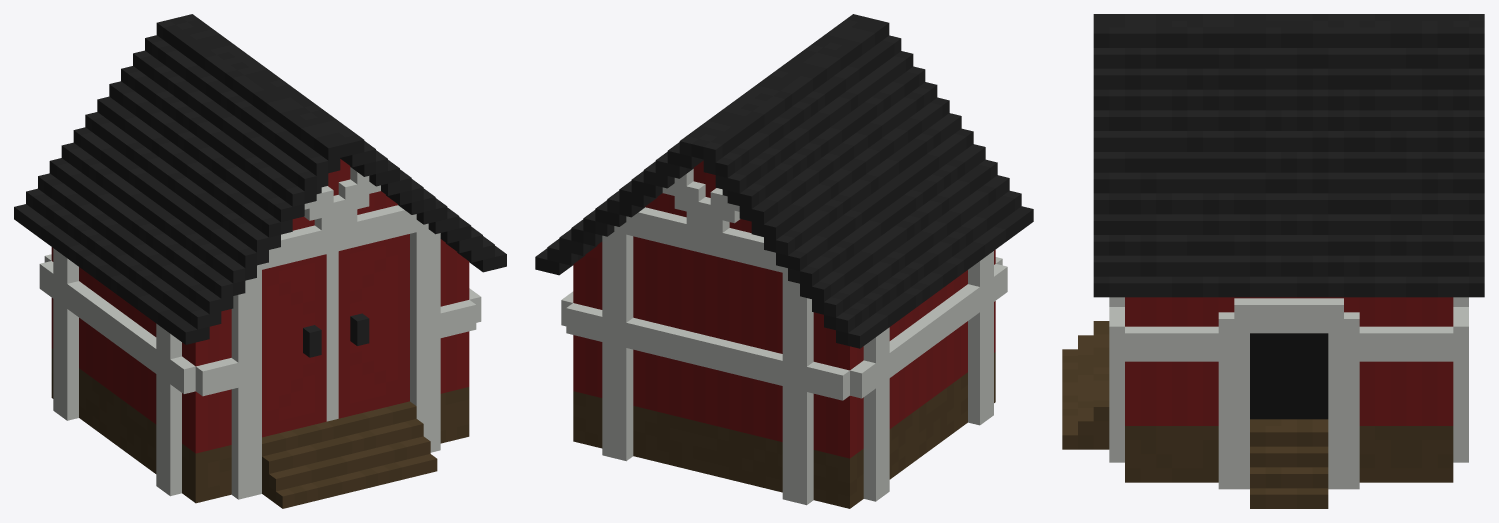
File: farm-49-coop.obj
3 views of the same model, side by side, from view 1: azimuth 30°, elevation 25°; view 2: azimuth 150°, elevation 25°; view 3: azimuth 270°, elevation 25° (orthographic). The views are drawn at different scales.
Visible parts, largest first — view 1: coop; view 2: coop; view 3: coop.
Part boxes in pixels (<box>): coop: <box>14,14,506,508</box>; coop: <box>535,14,1033,508</box>; coop: <box>1062,14,1484,508</box>.
Size of the model in its own units: 2.9 by 2.7 by 2.7.
1 material, 1 textured.
